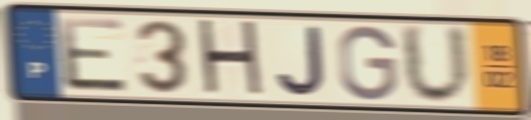3: (132, 17, 190, 96)
E: (55, 14, 133, 96)
G: (336, 23, 400, 103)
H: (194, 16, 269, 102)
J: (273, 24, 329, 100)
U: (397, 21, 476, 109)
